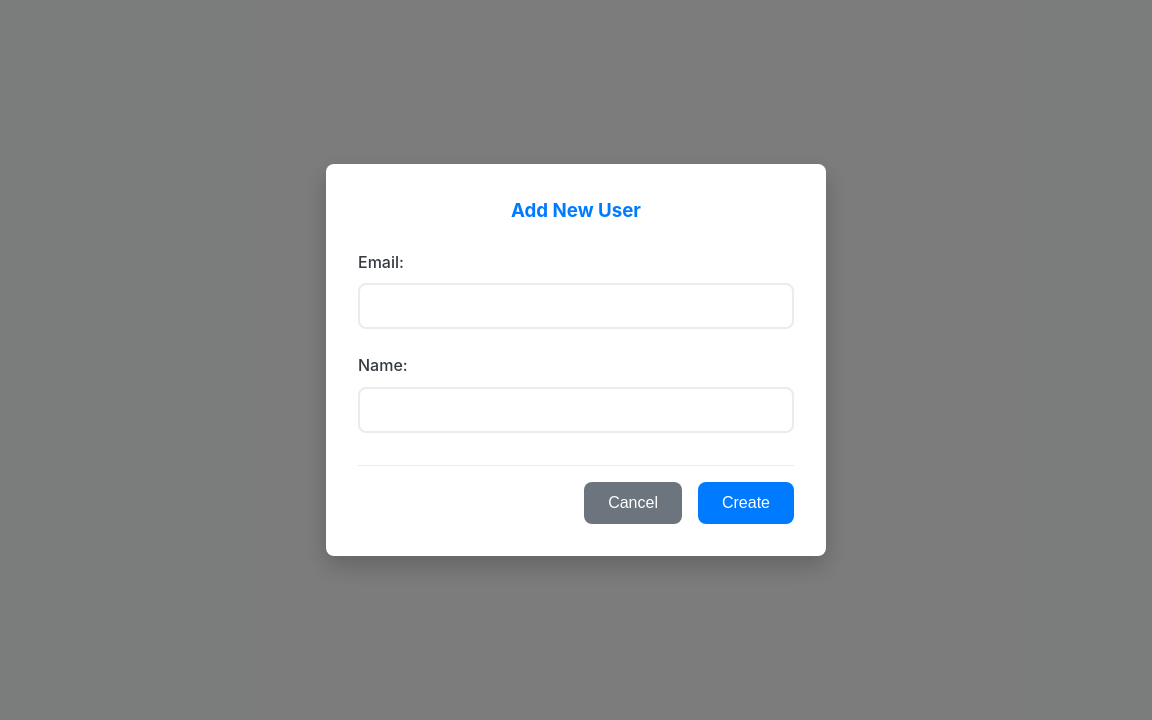
UserForm › validates required fields
Click the button "Create" at (746, 503), box [698,482,794,524]
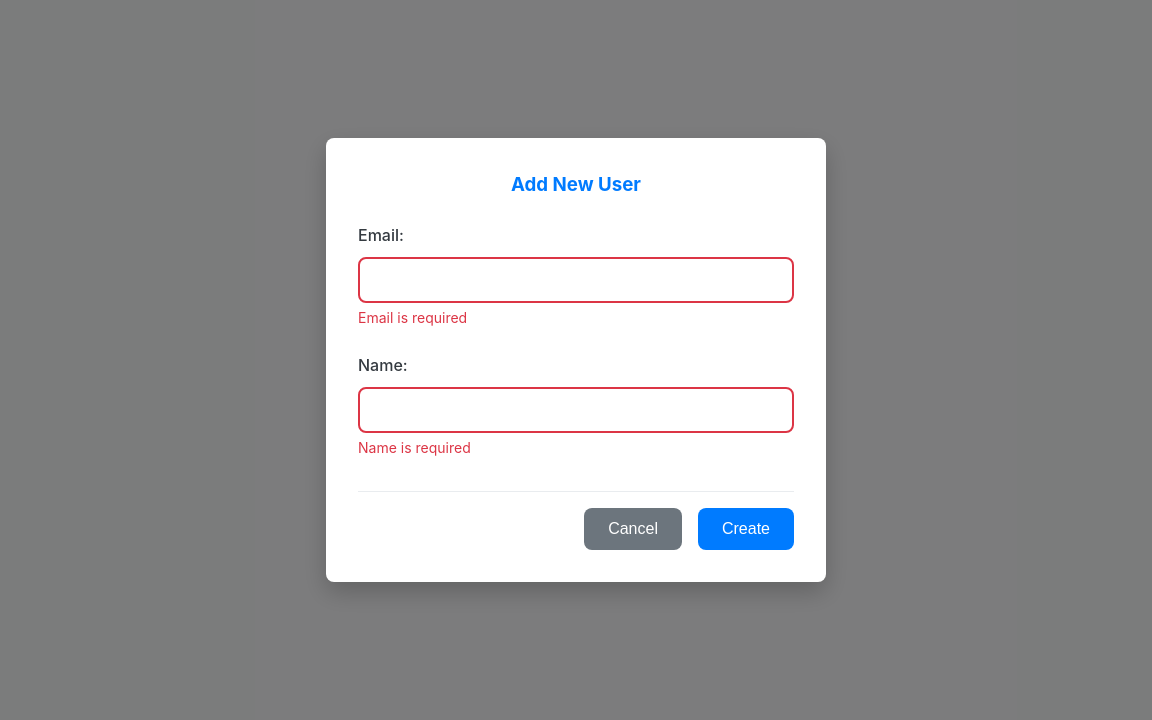
Expected: the text "Email is required" is shown, [358,309,467,326]
Expected: the text "Name is required" is shown, [358,439,471,456]
